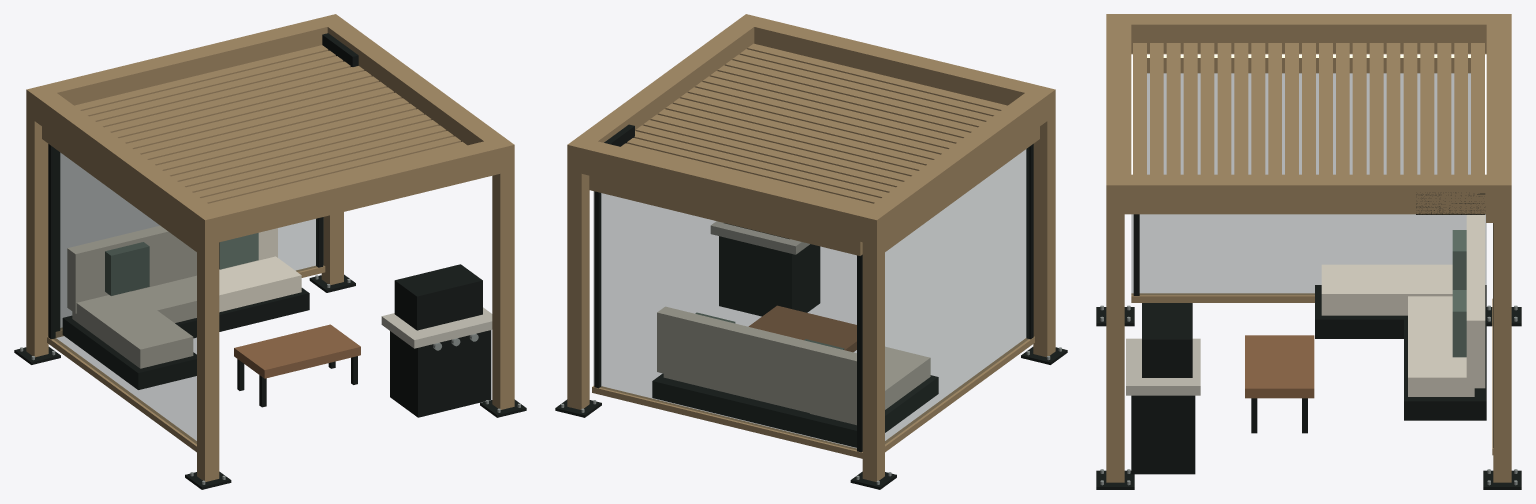
File: coordinatez-axis-10x10-sand.glb
The picture shows the model from 3 angles, left to right: view 1: azimuth 30°, elevation 25°; view 2: azimuth 150°, elevation 25°; view 3: azimuth 270°, elevation 25°; orthographic projection. The views are drawn at different scales.
Parts seen in each view (by area): view 1: Left motorized wall, Structural post (×4), Front motor beam, Rear drainage beam, Left beam, Rear motorized wall, BBQ cabinet, Right beam, Sofa back, Chaise cushion, Sofa seat, BBQ hood (+30 smaller); view 2: Rear motorized wall, Left motorized wall, Structural post (×3), Sofa back, Rear drainage beam, Front motor beam, Left beam, BBQ cabinet, Right beam, Sofa base, Rear wall cassette, Rear wall guide (×2) (+28 smaller); view 3: Left motorized wall, Right beam, Left beam, Structural post (×2), Chaise cushion, BBQ cabinet, Sofa seat, Front motor beam, Rear drainage beam, Coffee table top, BBQ hood, Sofa back (+30 smaller).
Boxes of the visible parts, x1,y1,x2,y2 form: Left motorized wall: (53,147,196,443); Structural post (×4): (26,115,514,481); Front motor beam: (194,137,514,245); Rear drainage beam: (26,14,346,122); Left beam: (26,85,224,245); Rear motorized wall: (61,154,323,328); BBQ cabinet: (390,330,491,417); Right beam: (318,17,514,174); Sofa back: (67,226,277,313); Chaise cushion: (72,291,193,368); Sofa seat: (132,256,301,322); BBQ hood: (394,264,482,330); Rear motorized wall: (593,191,856,449); Left motorized wall: (885,147,1028,443); Structural post (×3): (567,115,1055,481); Sofa back: (657,306,856,420); Rear drainage beam: (567,136,887,244); Front motor beam: (735,14,1055,122); Left beam: (857,85,1055,245); BBQ cabinet: (719,236,820,316); Right beam: (567,15,763,174); Sofa base: (652,373,898,447); Rear wall cassette: (589,175,862,255); Rear wall guide (×2): (594,191,862,452); Left motorized wall: (1131,73,1486,294); Right beam: (1106,174,1511,214); Left beam: (1106,14,1511,53); Structural post (×2): (1106,214,1511,482); Chaise cushion: (1321,264,1452,315); BBQ cabinet: (1131,395,1195,474); Sofa seat: (1408,296,1474,396); Front motor beam: (1106,14,1131,214); Rear drainage beam: (1486,14,1511,214); Coffee table top: (1245,335,1314,398); BBQ hood: (1142,303,1192,377); Sofa back: (1466,215,1485,388).
Size of the model in its own units: 3.2 by 2.49 by 3.2.
